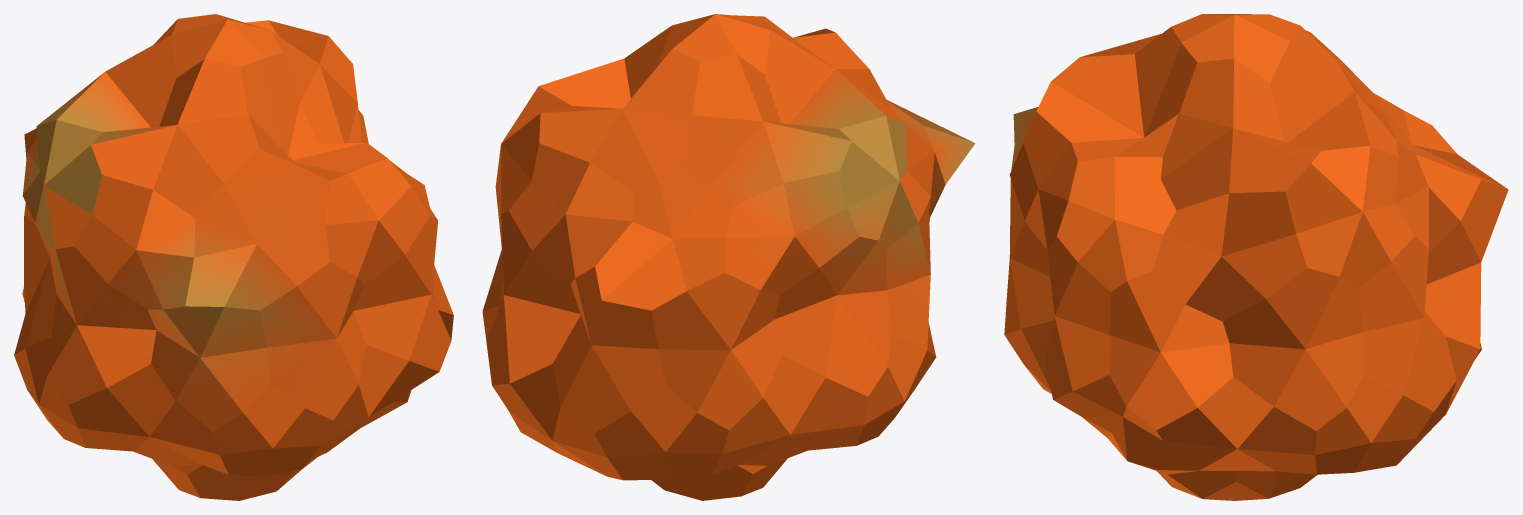
The model's file is pn_world_land.gltf.
The picture shows the model from 3 angles, left to right: view 1: azimuth 30°, elevation 25°; view 2: azimuth 150°, elevation 25°; view 3: azimuth 270°, elevation 25°; orthographic projection. The views are drawn at different scales.
Visible parts, largest first — view 1: Icosphere; view 2: Icosphere; view 3: Icosphere.
Boxes of the visible parts, left/top/right/bottom form: Icosphere: left=14, top=14, right=453, bottom=500; Icosphere: left=482, top=14, right=975, bottom=500; Icosphere: left=1004, top=14, right=1508, bottom=500.
Bounding box in the file's own units: 2.72 × 3.24 × 3.05.
